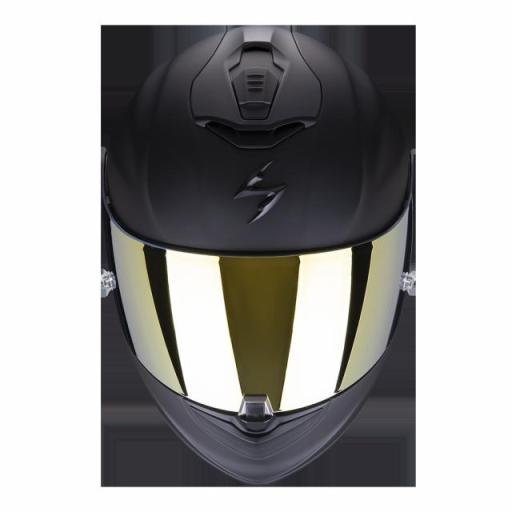Helmet: (102, 27, 414, 483)
